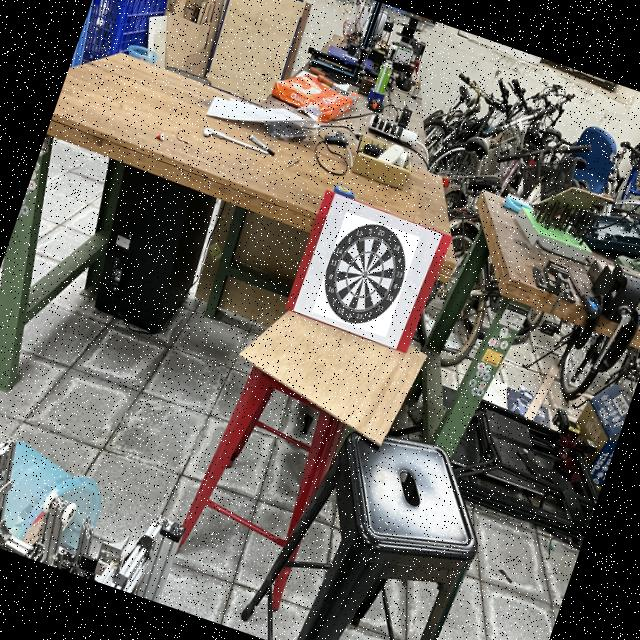archery-targets: (312, 212, 420, 338)
